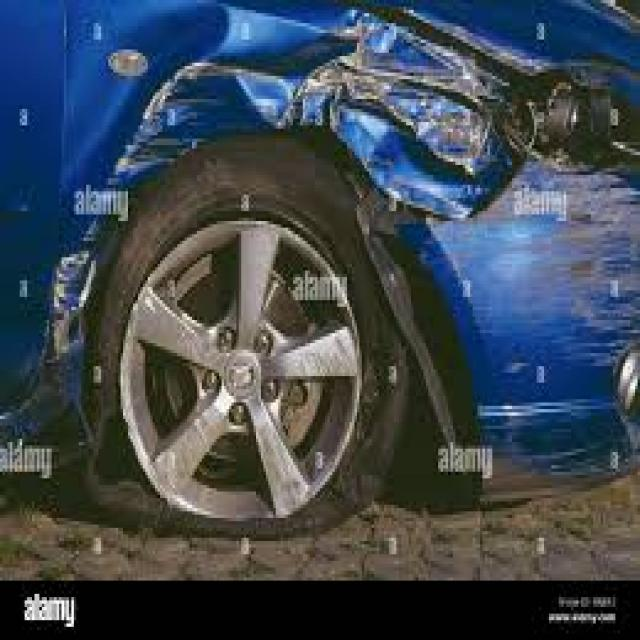moderate: (274, 22, 526, 225)
